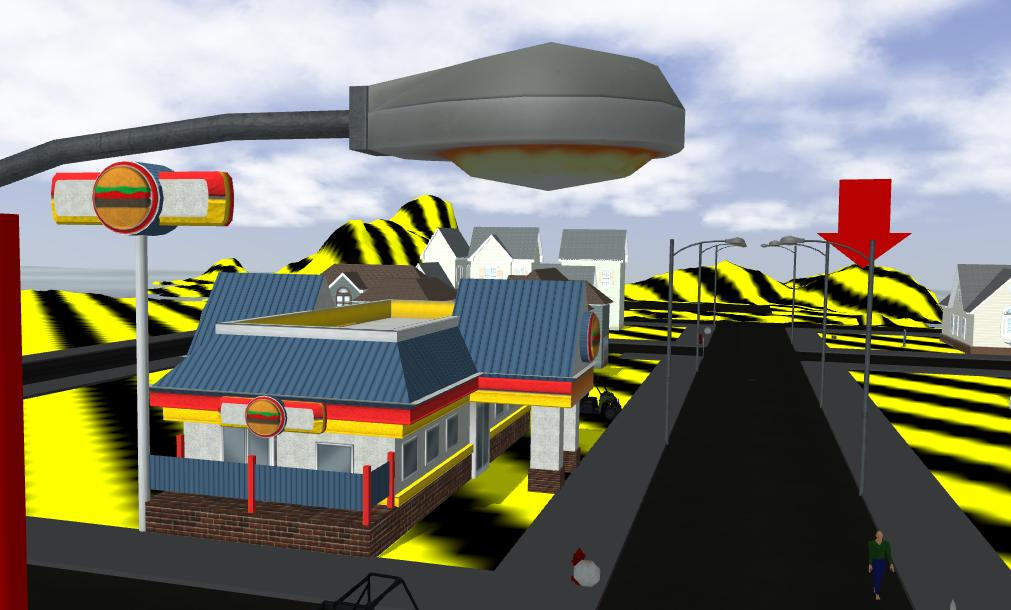human: (867, 533, 907, 596)
street light: (1, 47, 681, 217), (784, 223, 876, 498), (668, 218, 737, 446), (785, 221, 832, 428), (699, 234, 746, 375), (712, 237, 749, 347)
